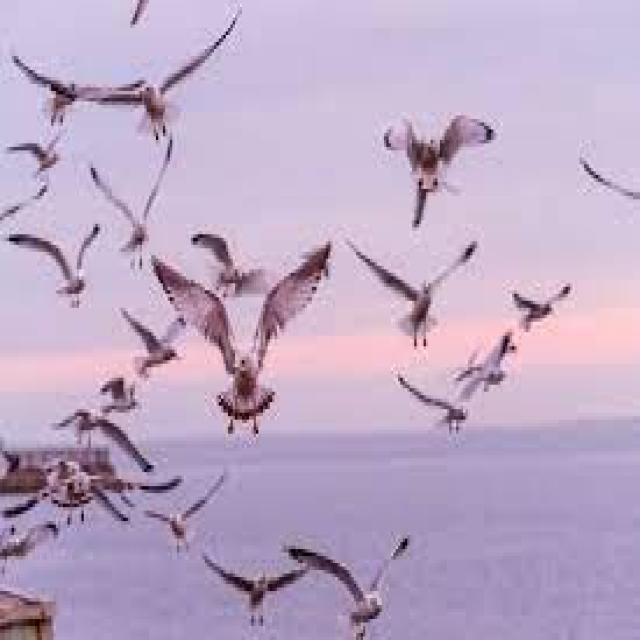bird: (140, 248, 350, 454), (6, 7, 290, 154), (336, 229, 488, 366), (371, 103, 513, 236), (281, 521, 433, 640), (79, 128, 184, 278), (194, 538, 322, 640), (6, 210, 110, 322), (136, 467, 243, 565), (398, 352, 508, 442), (44, 402, 156, 469), (502, 260, 586, 344), (98, 366, 154, 428)
